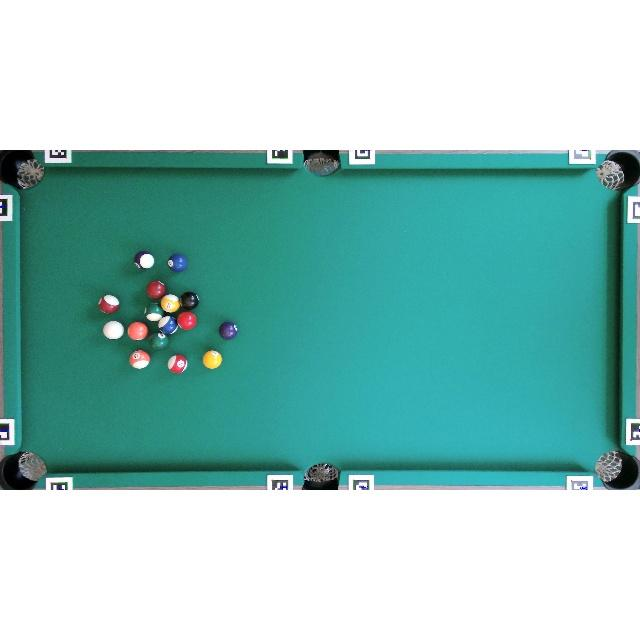cue ball: (103, 321, 124, 340)
other: (98, 294, 120, 314), (167, 354, 188, 374), (167, 253, 188, 273), (127, 321, 148, 341), (202, 349, 222, 369), (149, 331, 169, 351), (144, 302, 164, 322), (129, 350, 150, 369), (134, 251, 154, 270), (177, 311, 197, 330), (160, 294, 180, 313), (159, 316, 178, 335), (180, 291, 199, 310), (146, 280, 166, 298), (219, 322, 237, 340)
